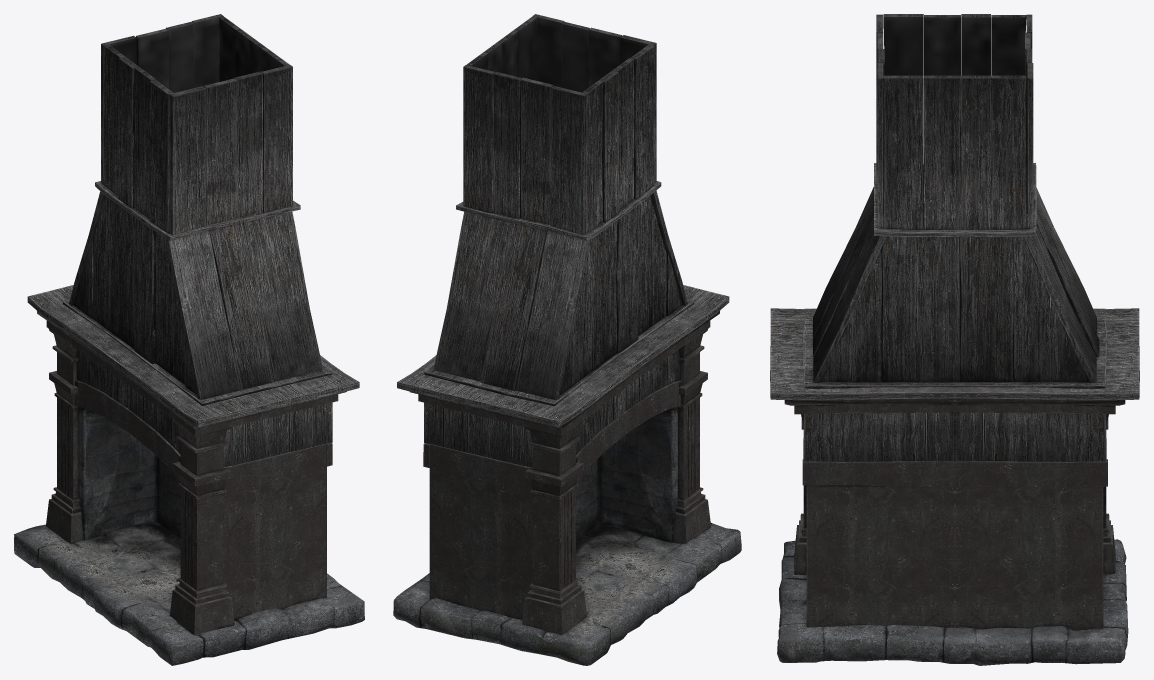
The model's file is SM_Fireplace.fbx.
3 renders of one model, left to right at view 1: azimuth 30°, elevation 25°; view 2: azimuth 150°, elevation 25°; view 3: azimuth 270°, elevation 25°, orthographic. The views are drawn at different scales.
Parts seen in each view (by area): view 1: SM_Fireplace_LOD0; view 2: SM_Fireplace_LOD0; view 3: SM_Fireplace_LOD0.
Part boxes in pixels (left/top/right/bottom): SM_Fireplace_LOD0: left=14, top=14, right=364, bottom=665; SM_Fireplace_LOD0: left=393, top=14, right=741, bottom=665; SM_Fireplace_LOD0: left=770, top=14, right=1139, bottom=665.
Bounding box in the file's own units: 116 × 172 × 295.
